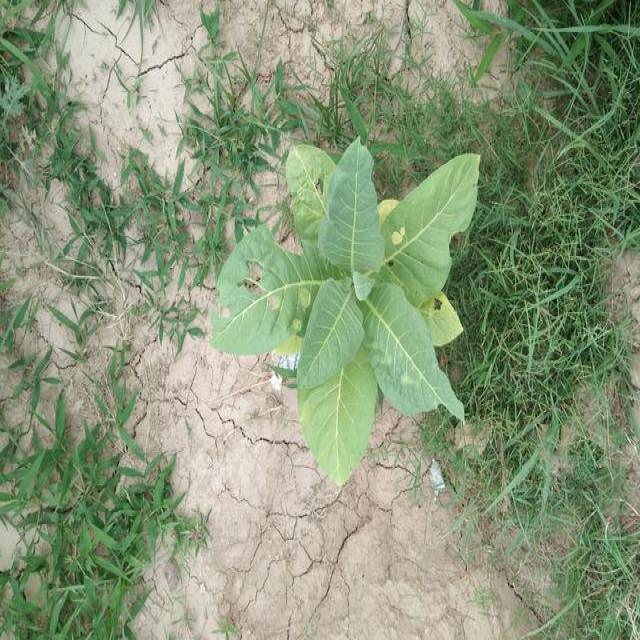crop: (208, 121, 492, 490)
